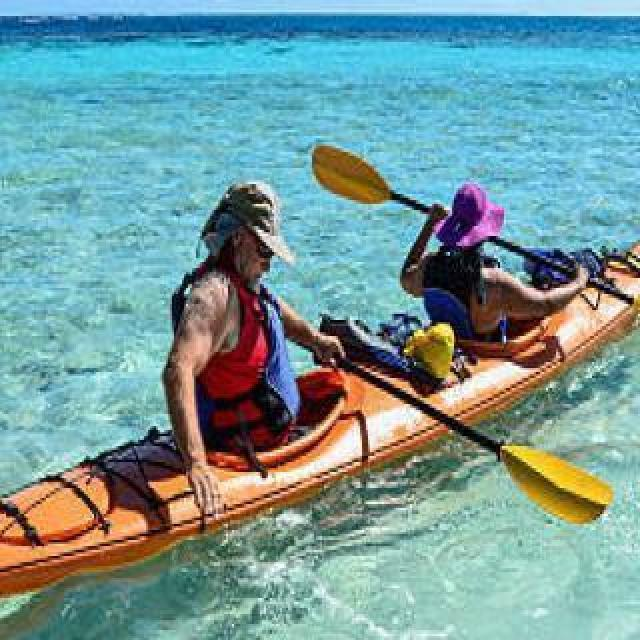kayak: (0, 242, 640, 597), (483, 436, 611, 520)
